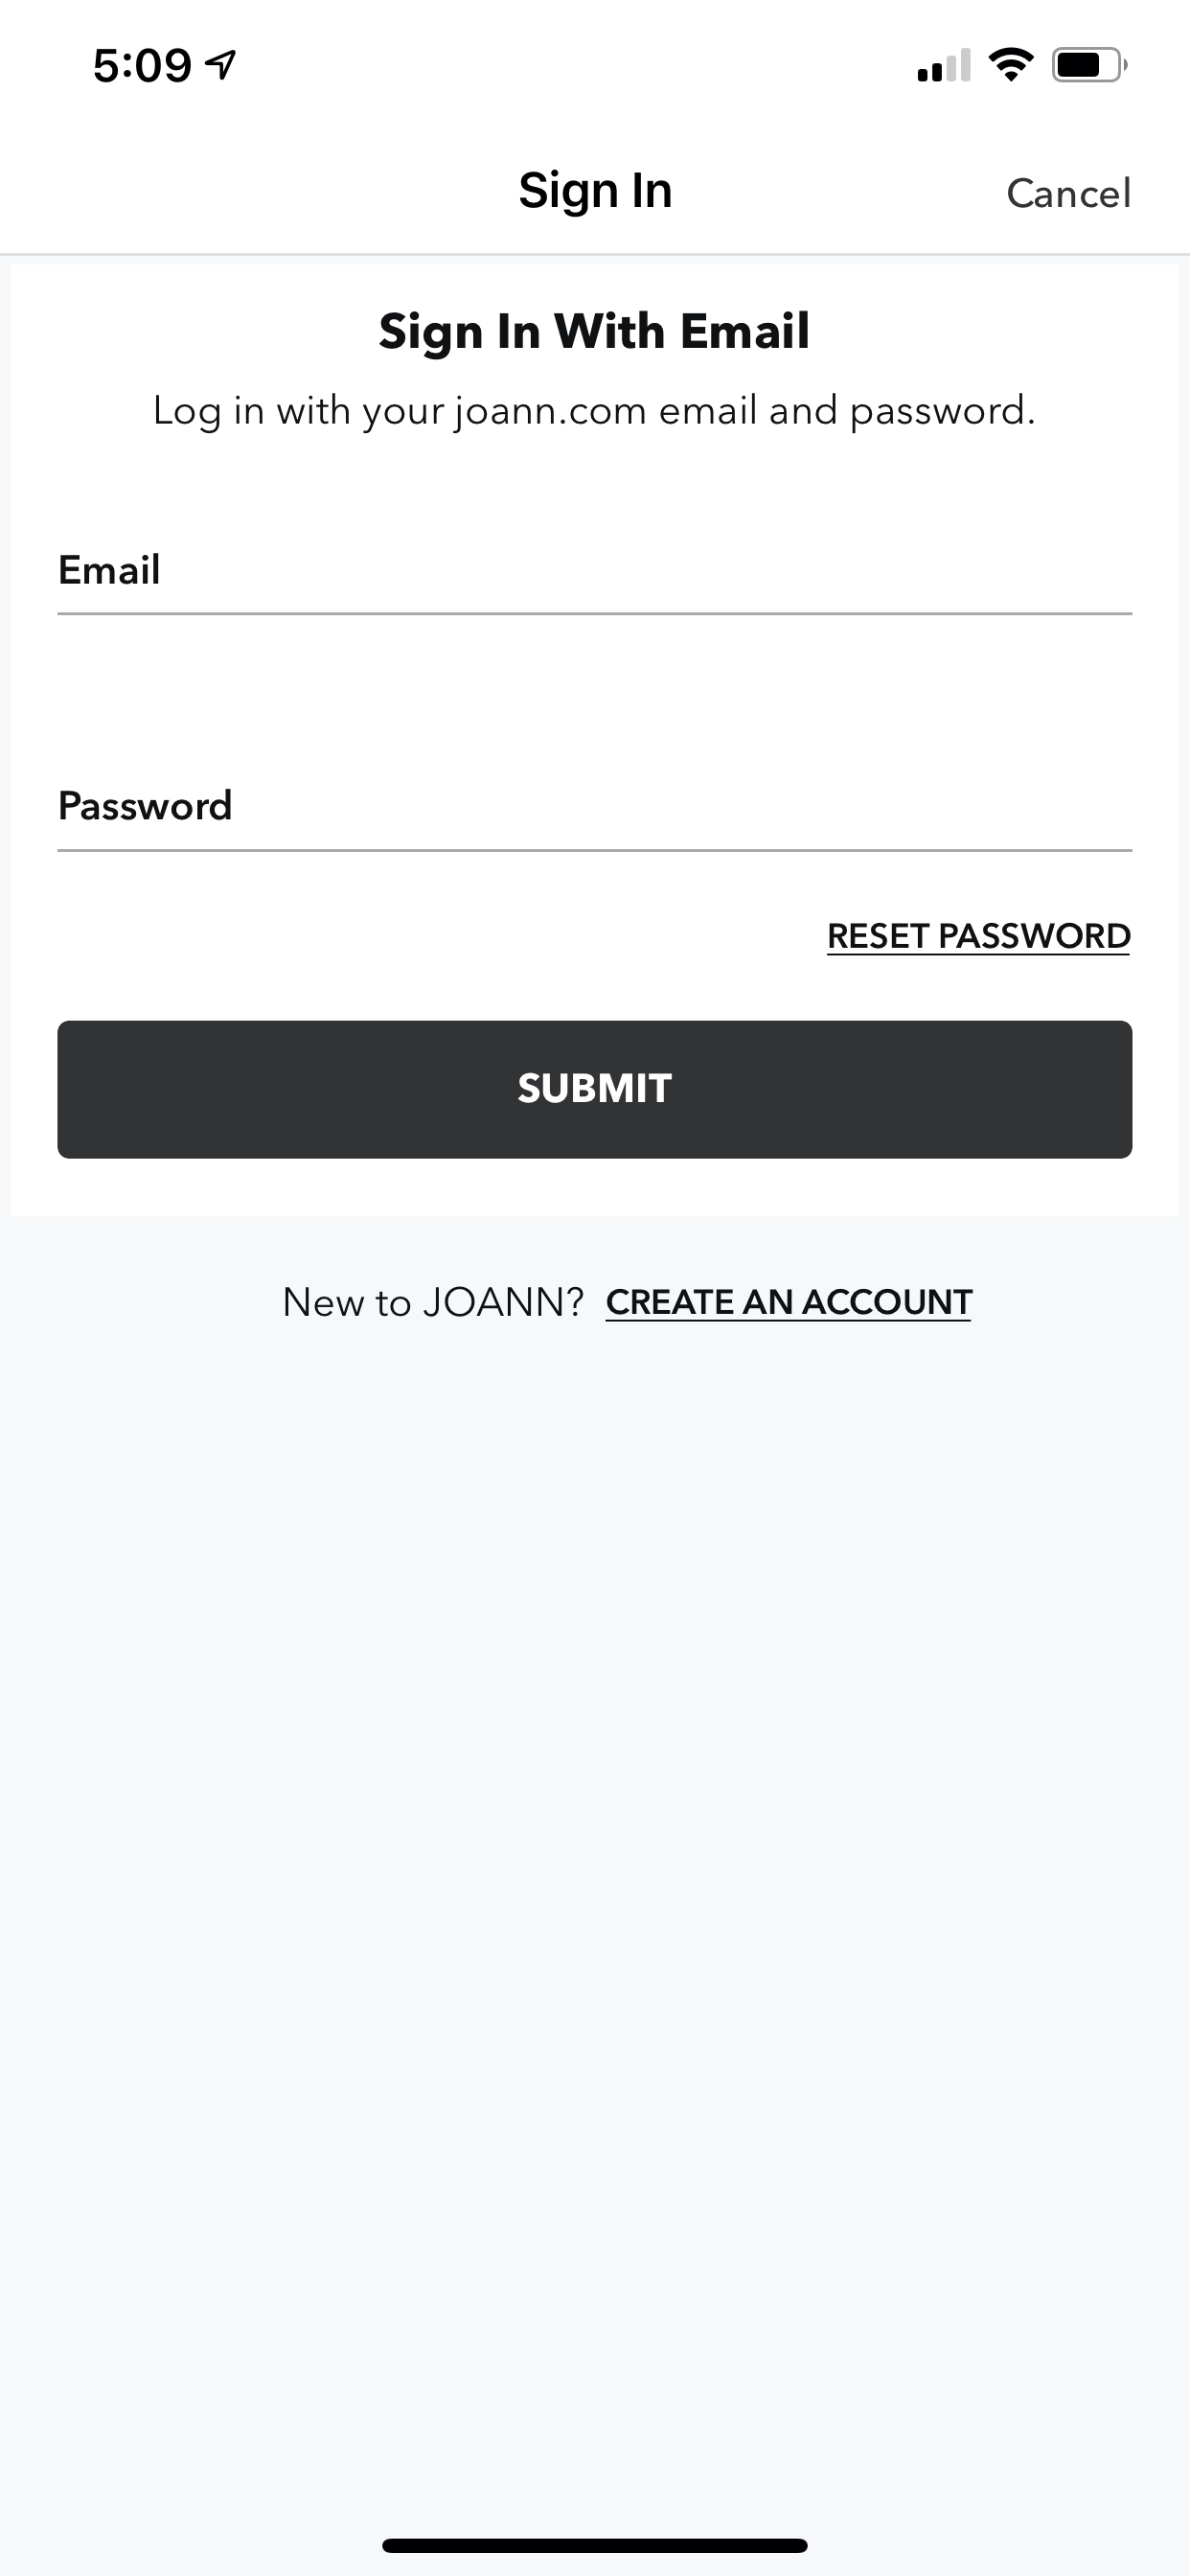EditText: (58, 789, 1132, 853), (58, 554, 1132, 614)
Text: (156, 393, 1034, 434), (380, 310, 807, 361), (605, 1288, 973, 1321), (825, 923, 1131, 956), (286, 1286, 583, 1318), (519, 169, 671, 218), (61, 789, 230, 820), (1008, 176, 1129, 209), (61, 554, 159, 585)
TextButton: (58, 1020, 1132, 1158)
UpperTaskBar: (94, 48, 1128, 84)
